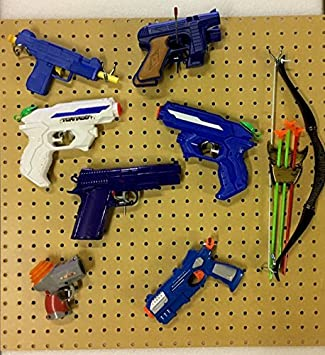Arma Falsa: (154, 97, 258, 196), (135, 236, 245, 322), (71, 158, 185, 238), (8, 25, 121, 97), (134, 5, 227, 87), (30, 256, 89, 328)
